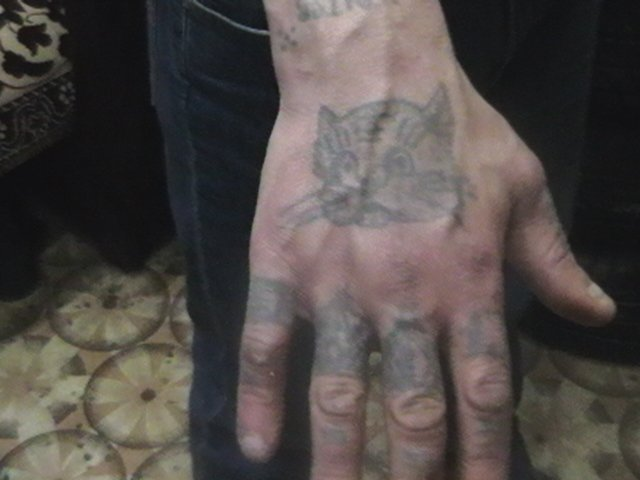tatu8_kot: (299, 86, 480, 237)
